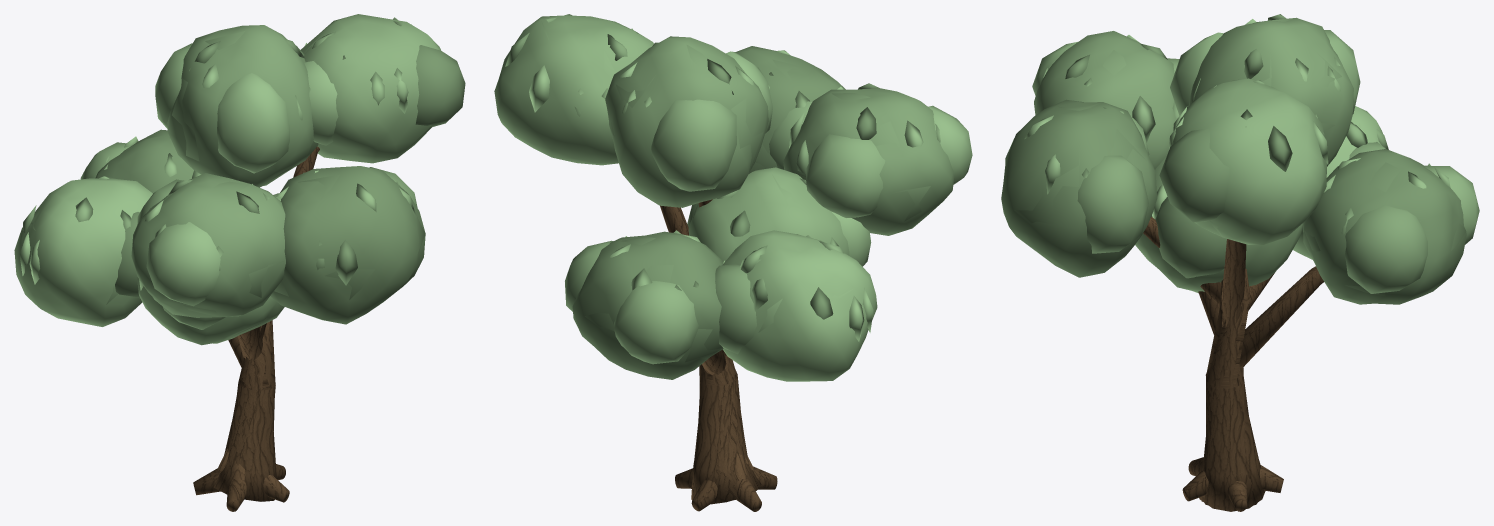
The model's file is env_tree_oak_c_v001.glb.
3 views of the same model, side by side, from view 1: azimuth 30°, elevation 25°; view 2: azimuth 150°, elevation 25°; view 3: azimuth 270°, elevation 25° (orthographic). The views are drawn at different scales.
Visible parts, largest first — view 1: env_tree_oak_c_LOD0_mesh, env_tree_oak_c_LOD1_mesh, env_tree_oak_c_LOD2_mesh; view 2: env_tree_oak_c_LOD0_mesh, env_tree_oak_c_LOD1_mesh; view 3: env_tree_oak_c_LOD0_mesh, env_tree_oak_c_LOD1_mesh, env_tree_oak_c_LOD2_mesh.
Part boxes in pixels (x1,y1,x2,y2): env_tree_oak_c_LOD0_mesh: (14,14,465,511); env_tree_oak_c_LOD1_mesh: (31,15,425,511); env_tree_oak_c_LOD2_mesh: (225,150,319,500); env_tree_oak_c_LOD0_mesh: (494,14,972,511); env_tree_oak_c_LOD1_mesh: (541,21,930,510); env_tree_oak_c_LOD0_mesh: (1001,14,1479,511); env_tree_oak_c_LOD1_mesh: (1014,18,1466,511); env_tree_oak_c_LOD2_mesh: (1143,218,1322,501).
Bounding box in the file's own units: 8 × 9 × 8.
Materials: 5 (1 with a texture image).
